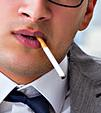smoke: (35, 34, 68, 78)
